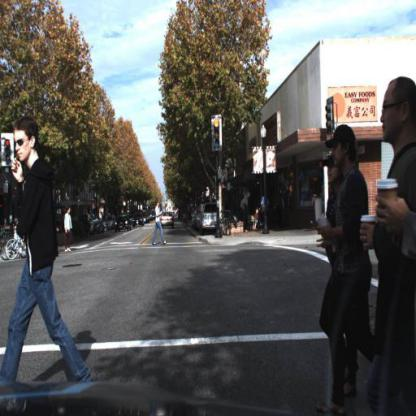car: (113, 207, 134, 237), (158, 205, 178, 235), (114, 213, 133, 236)
pedestrian: (1, 116, 88, 396), (361, 75, 414, 413), (324, 122, 366, 409), (320, 145, 338, 252), (323, 153, 341, 236), (149, 197, 169, 253), (59, 203, 78, 254), (241, 191, 251, 234)
trafficLight: (211, 111, 225, 149), (2, 129, 16, 167)
